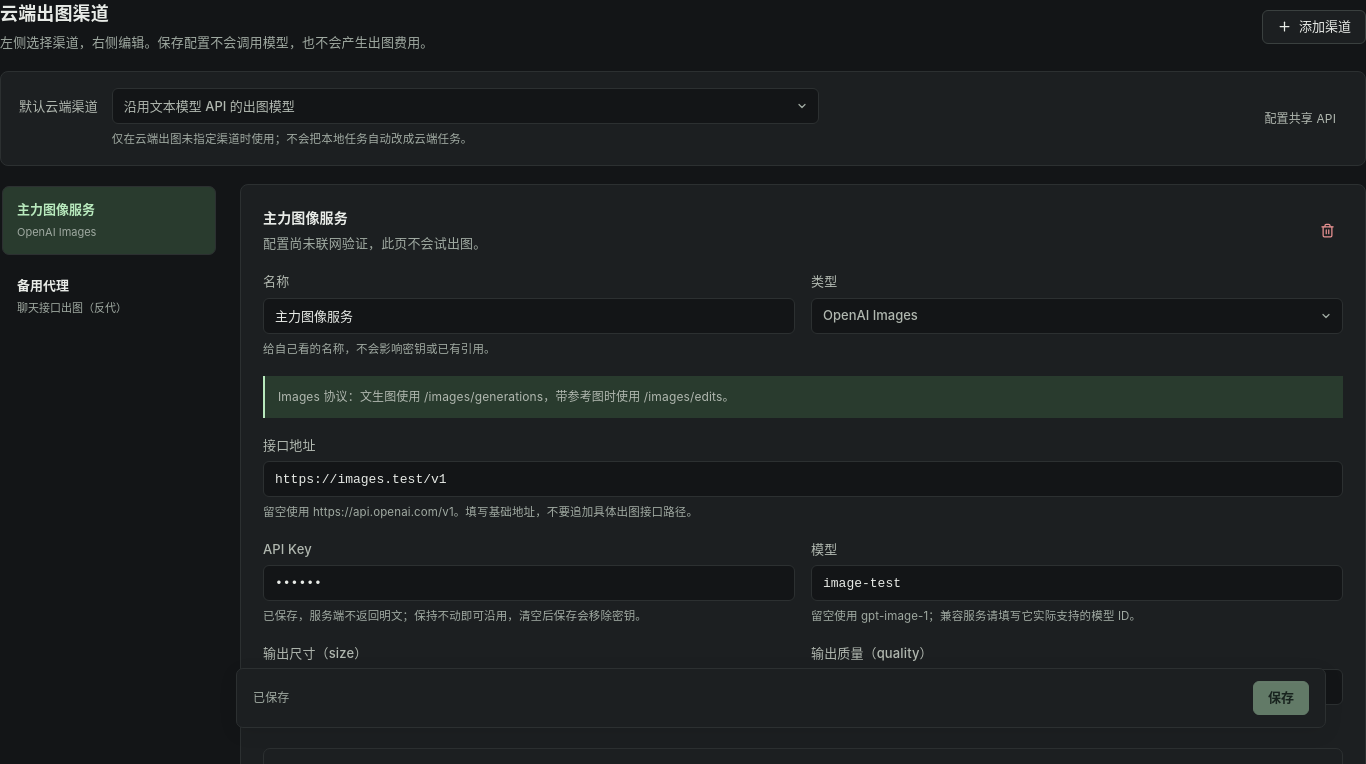
Test: cloud channel configuration › retains the draft when saving fails
Replace the text in the field showing "主力图像服务" with "保留这个草稿" at (529, 316), box [263, 298, 795, 334]
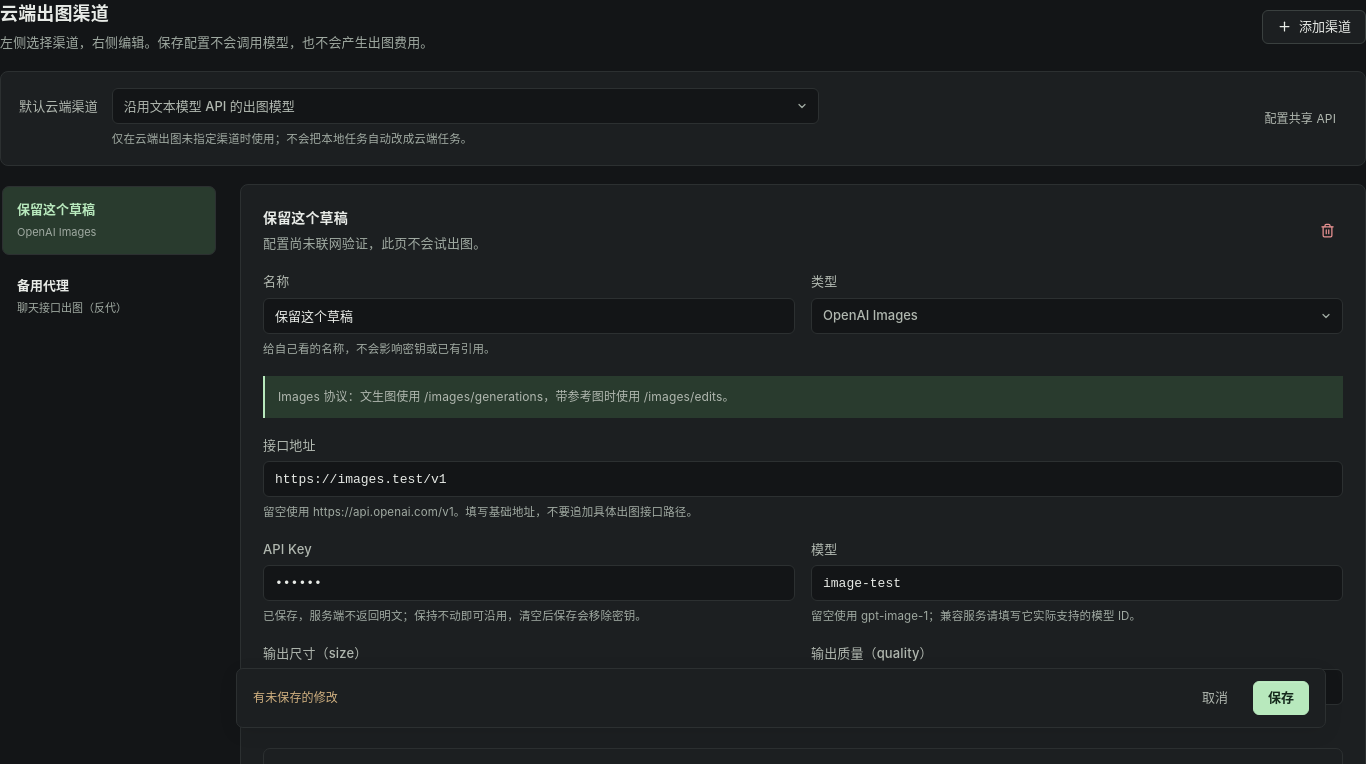
Click the button "保存" at (1281, 698), box [1253, 681, 1309, 715]
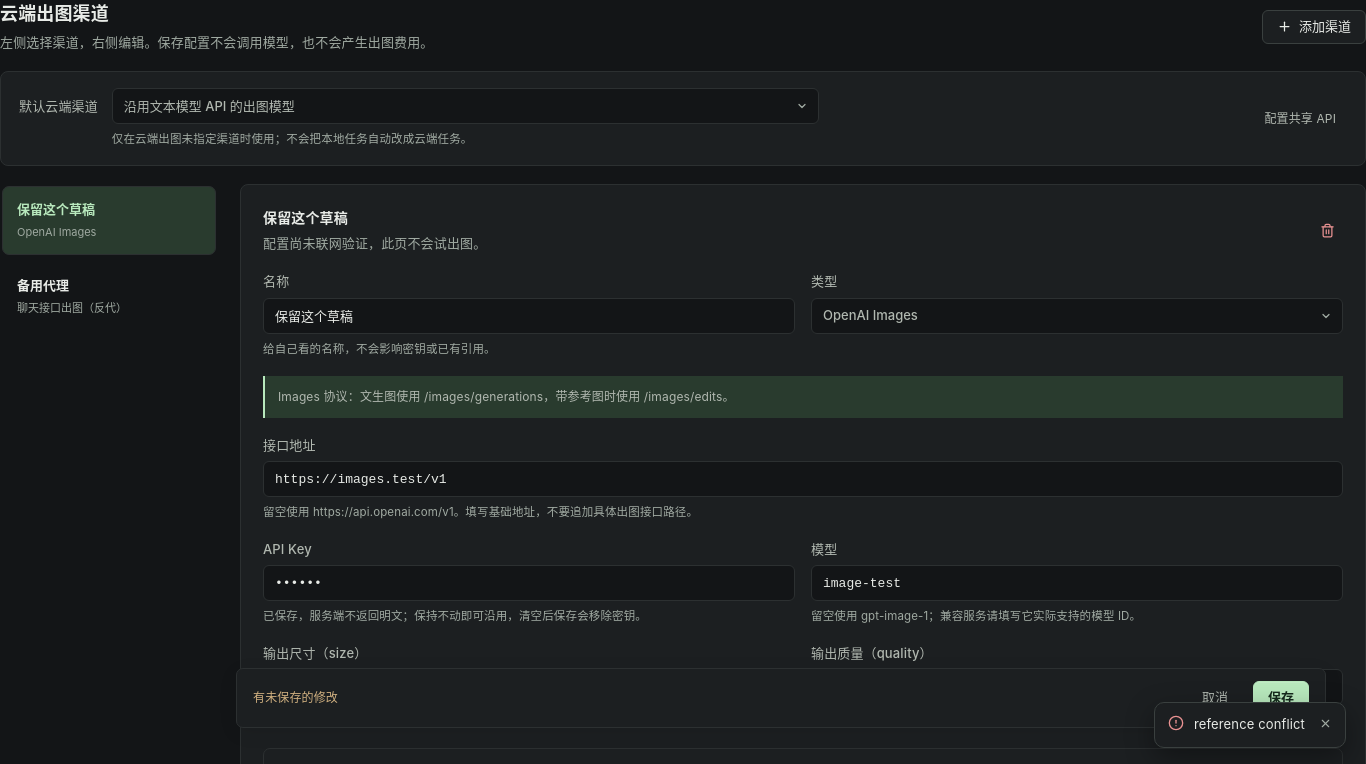
Expected: the text "有未保存的修改" is shown, [253, 690, 338, 705]
Expected: the message "reference conflict" is shown, [1154, 702, 1346, 748]
